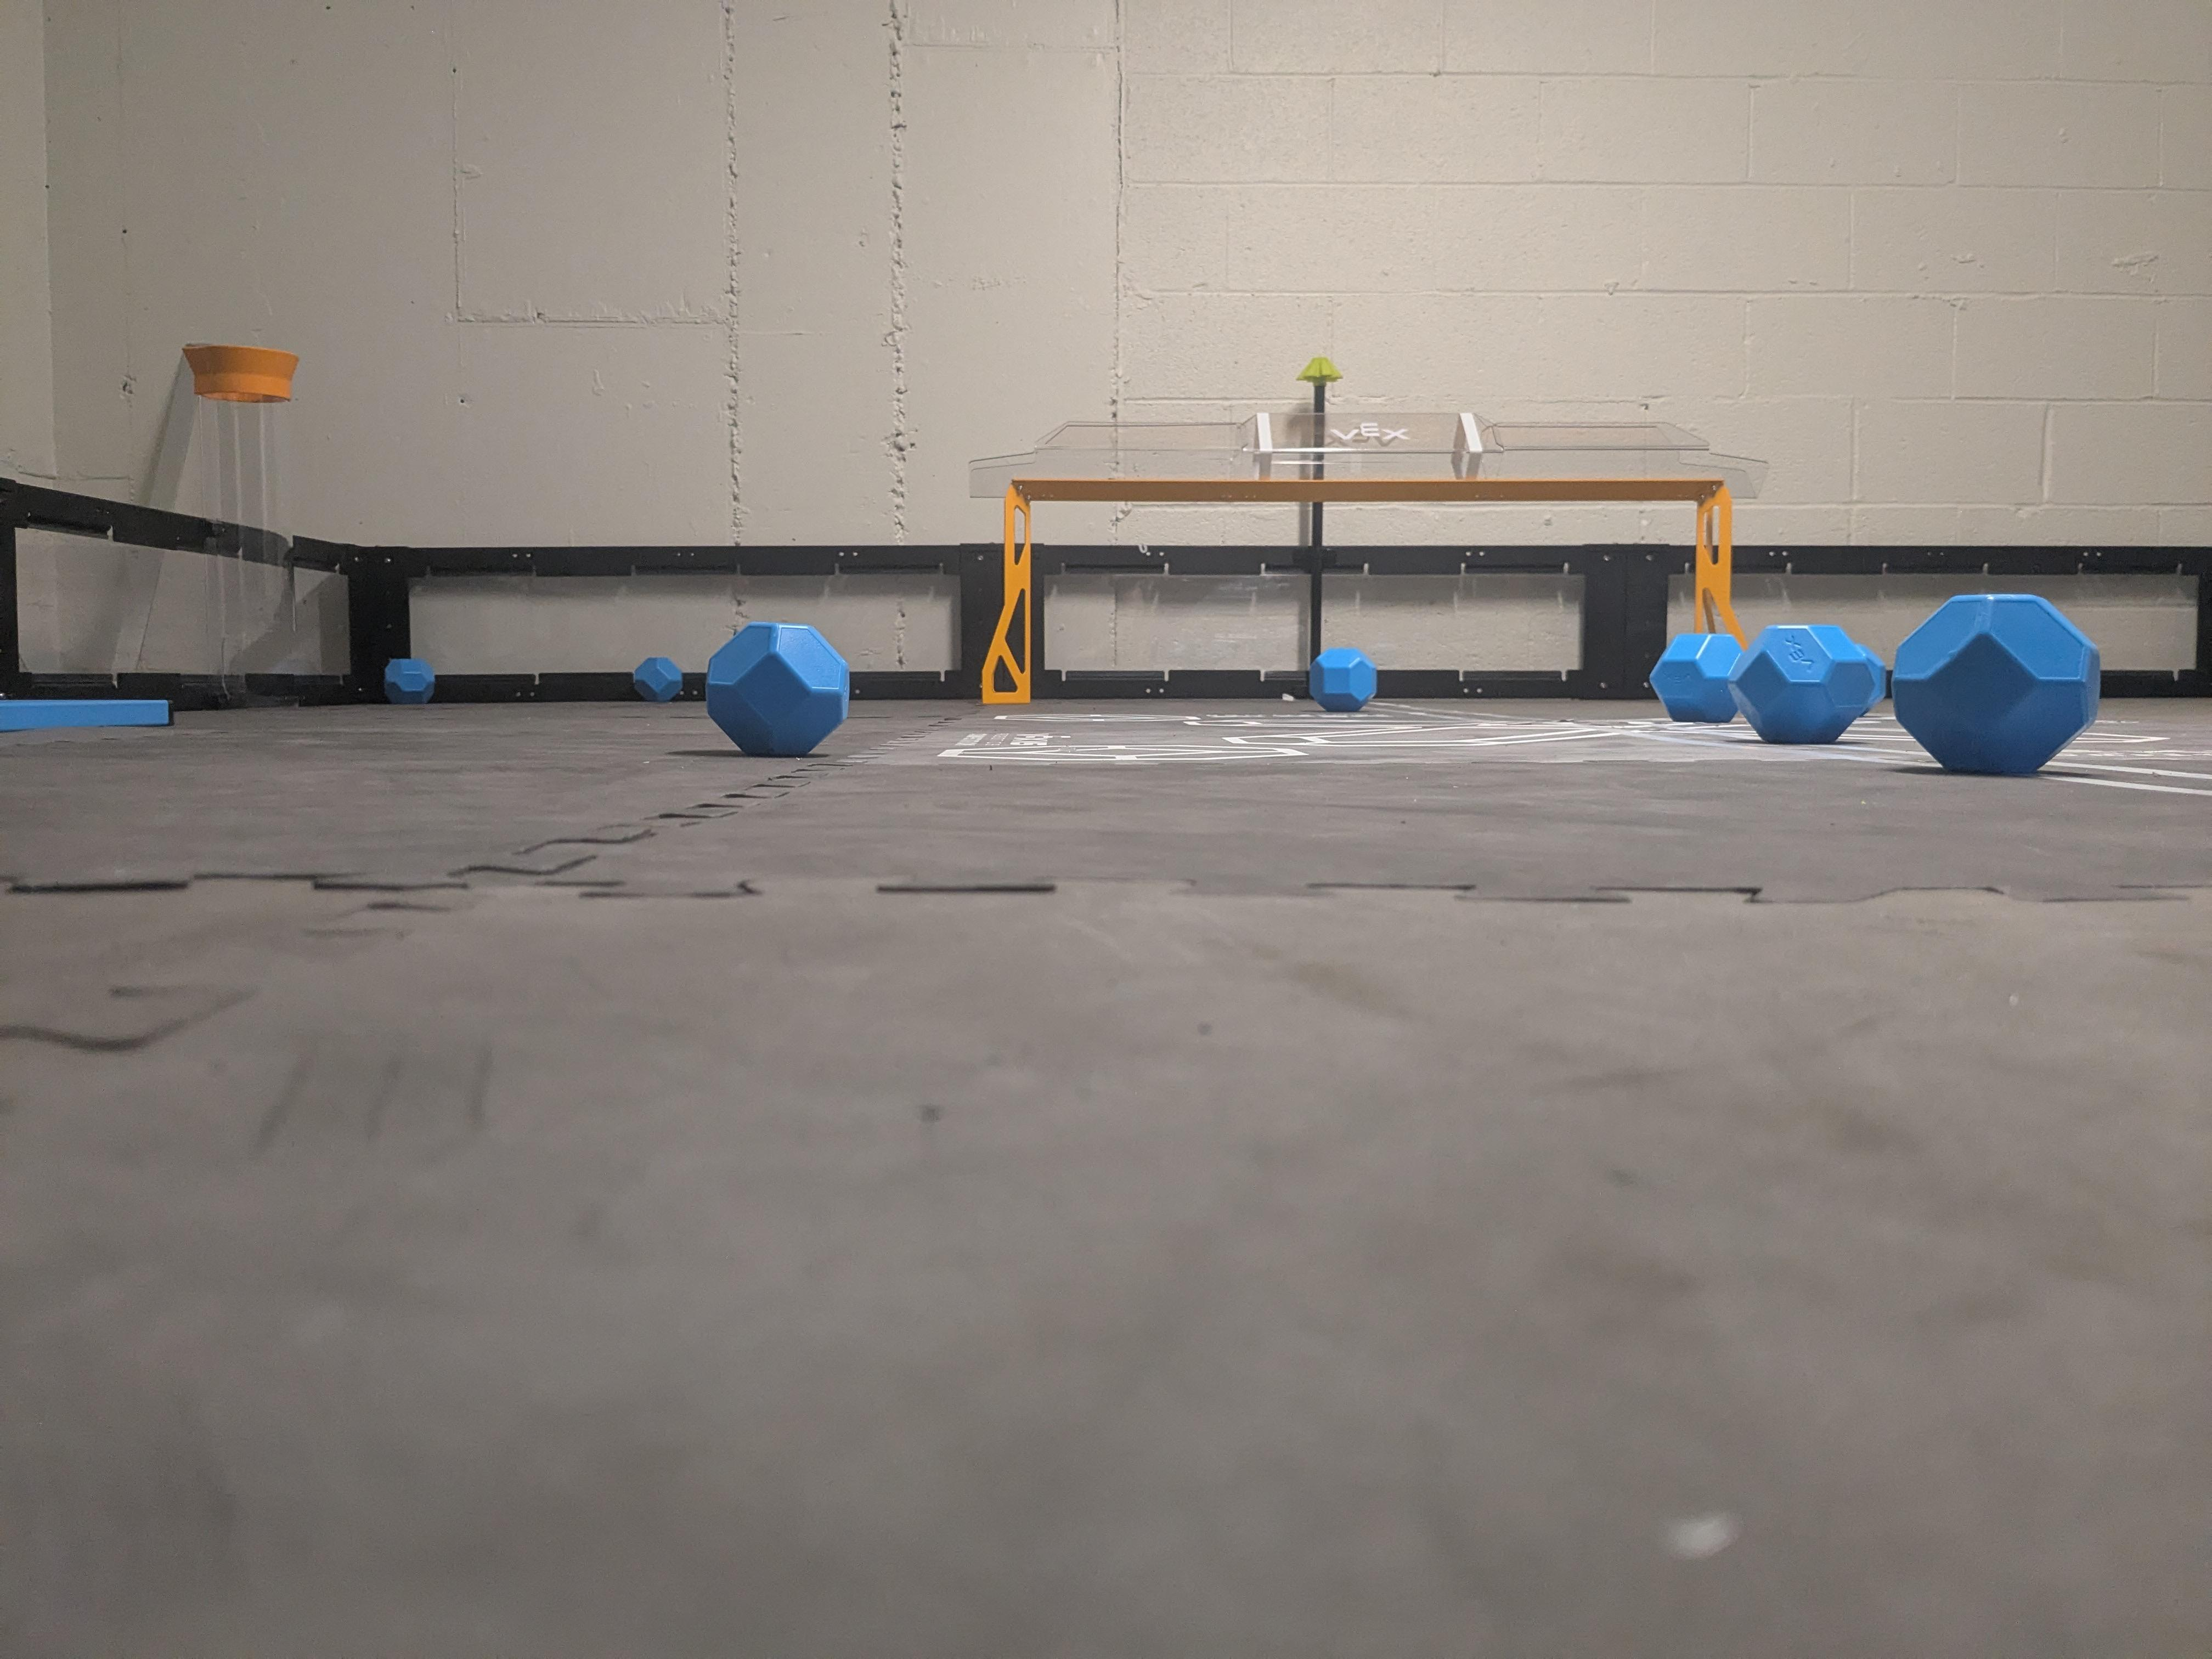Vex-Pieces-BLUE: (1893, 592, 2097, 770), (704, 622, 850, 751), (1731, 626, 1886, 742), (1649, 634, 1742, 721), (1306, 650, 1378, 709), (383, 659, 435, 704), (632, 657, 683, 702)
